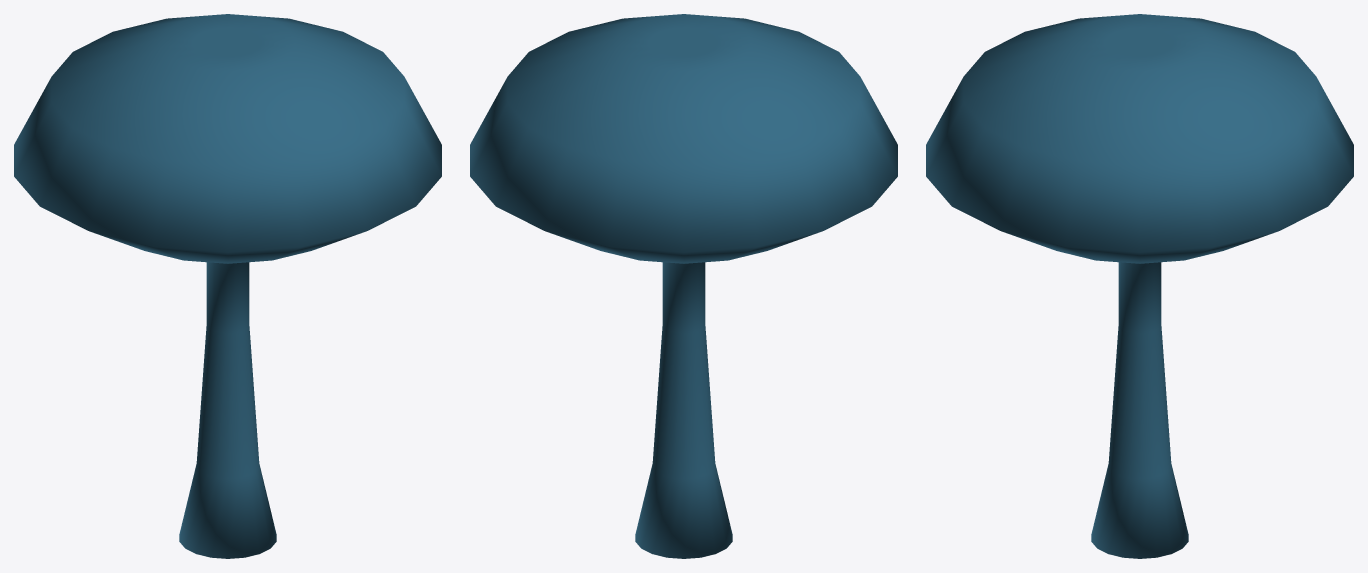
Rendered from Sour Forrest Tree.obj.
The picture shows the model from 3 angles, left to right: view 1: azimuth 30°, elevation 25°; view 2: azimuth 150°, elevation 25°; view 3: azimuth 270°, elevation 25°; orthographic projection.
Visible parts, largest first — view 1: Sour_Forrest_Tree; view 2: Sour_Forrest_Tree; view 3: Sour_Forrest_Tree.
Part boxes in pixels (<box>): Sour_Forrest_Tree: <box>14,14,441,558</box>; Sour_Forrest_Tree: <box>470,14,897,558</box>; Sour_Forrest_Tree: <box>926,14,1353,558</box>.
Size of the model in its own units: 41.11 by 51.72 by 40.48.
